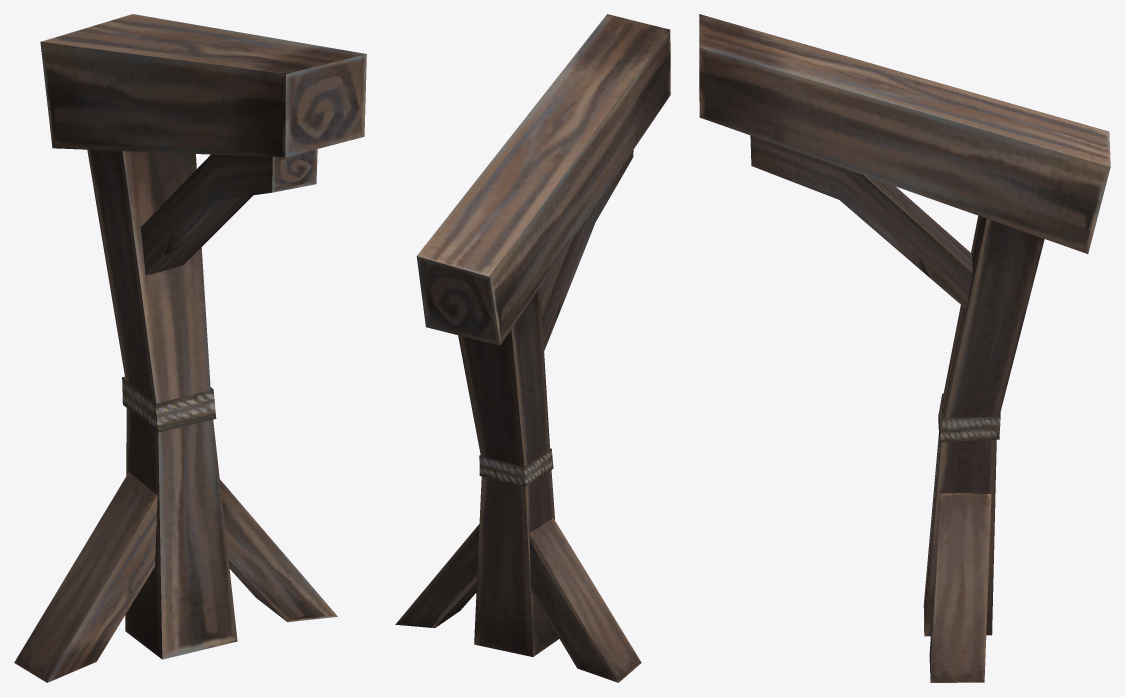
The model's file is mine_support_02.fbx.
3 renders of one model, left to right at view 1: azimuth 30°, elevation 25°; view 2: azimuth 150°, elevation 25°; view 3: azimuth 270°, elevation 25°, orthographic. The views are drawn at different scales.
Visible parts, largest first — view 1: obj0.077; view 2: obj0.077; view 3: obj0.077.
Boxes of the visible parts, x1,y1,x2,y2 form: obj0.077: [14, 14, 366, 682]; obj0.077: [395, 14, 670, 682]; obj0.077: [699, 14, 1110, 682].
Bounding box in the file's own units: 2.79 × 6.33 × 3.99.
